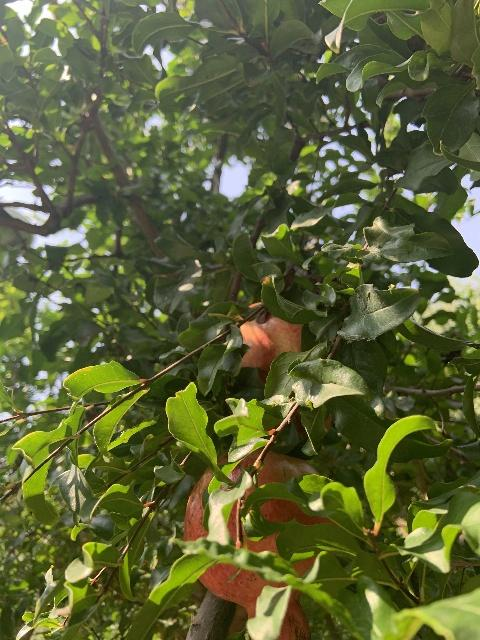ripe: (183, 450, 334, 640), (235, 302, 303, 384)
